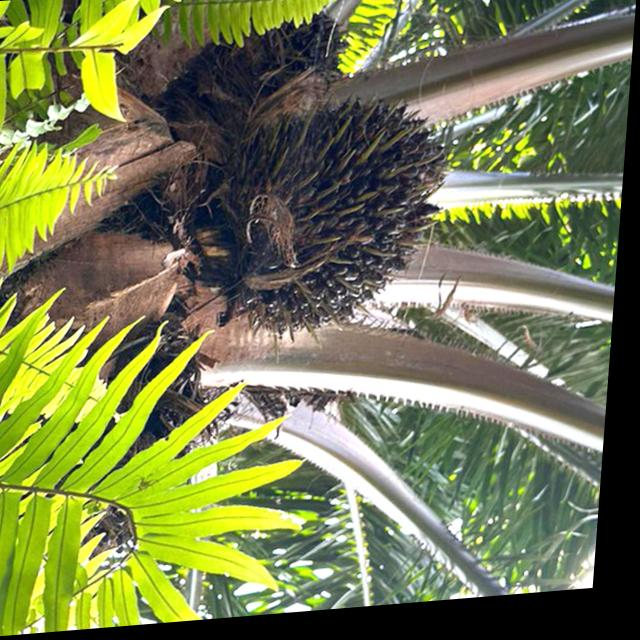almost: (222, 95, 459, 357)
